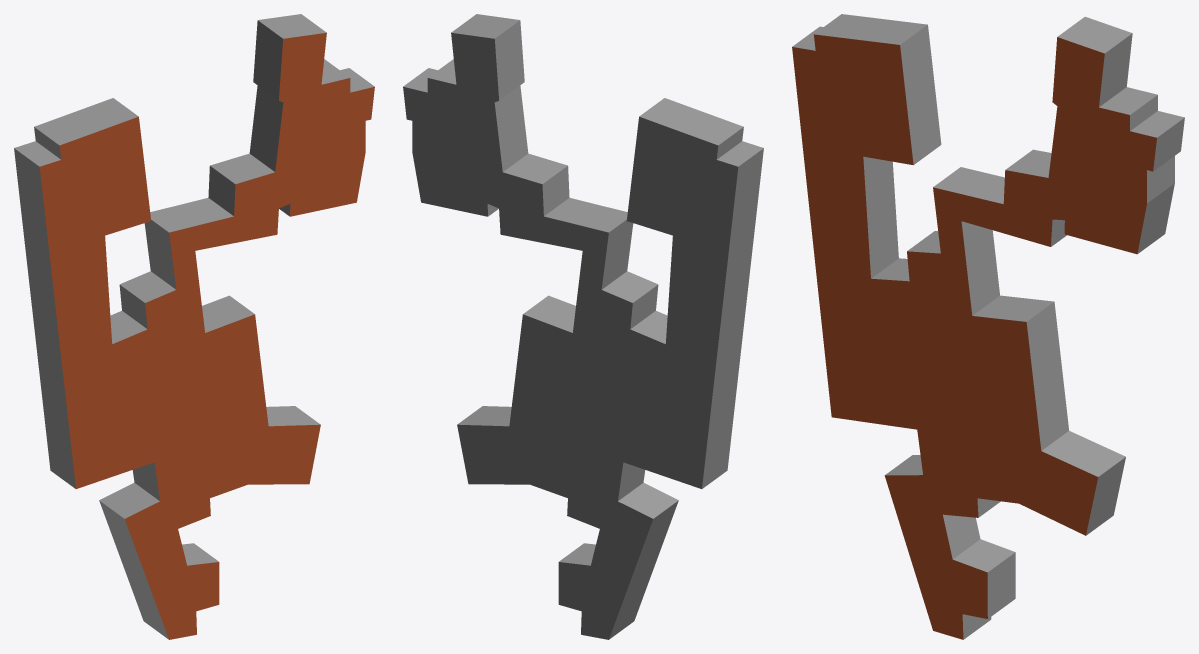
The model's file is construction_4038_assumed_A_Casa_h6m.obj.
3 renders of one model, left to right at view 1: azimuth 30°, elevation 25°; view 2: azimuth 150°, elevation 25°; view 3: azimuth 330°, elevation 25°, orthographic. The views are drawn at different scales.
Parts seen in each view (by area): view 1: construction_4038_assumed_A_Casa; view 2: construction_4038_assumed_A_Casa; view 3: construction_4038_assumed_A_Casa.
Boxes of the visible parts, x1,y1,x2,y2 form: construction_4038_assumed_A_Casa: [14, 14, 374, 639]; construction_4038_assumed_A_Casa: [403, 14, 763, 639]; construction_4038_assumed_A_Casa: [792, 14, 1184, 639].
Bounding box in the file's own units: 45.39 × 74.35 × 6.
